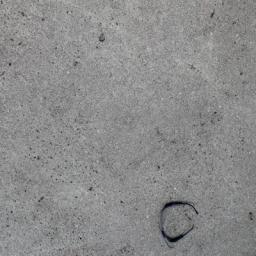FOD: (157, 200, 201, 251)
